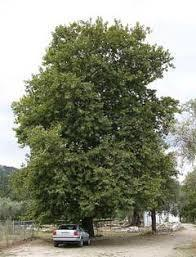tree: (16, 18, 178, 237)
